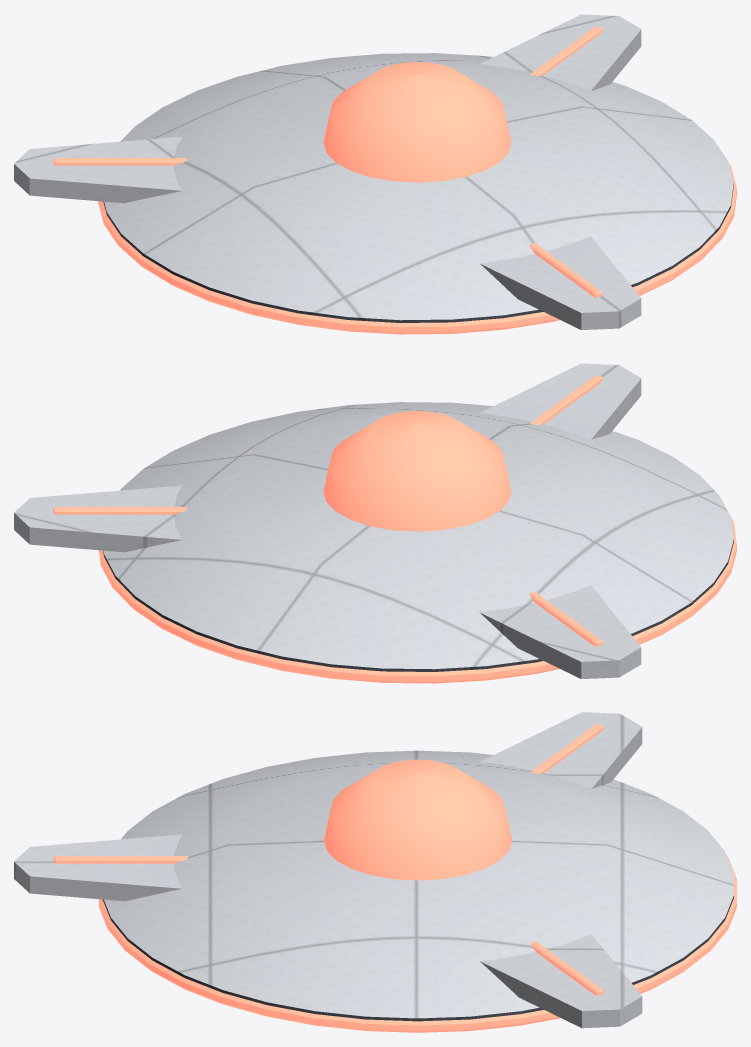
File: R4D_ExplosiveTrap.glb
3 views of the same model, one above another, from view 1: azimuth 30°, elevation 25°; view 2: azimuth 150°, elevation 25°; view 3: azimuth 270°, elevation 25° (orthographic).
Parts seen in each view (by area): view 1: R4D_ExplosiveTrap_Body, R4D_ExplosiveTrap_Lamp; view 2: R4D_ExplosiveTrap_Body, R4D_ExplosiveTrap_Lamp; view 3: R4D_ExplosiveTrap_Body, R4D_ExplosiveTrap_Lamp.
Part boxes in pixels (left/top/right/bottom): R4D_ExplosiveTrap_Body: left=14, top=14, right=736, bottom=334; R4D_ExplosiveTrap_Lamp: left=323, top=62, right=511, bottom=182; R4D_ExplosiveTrap_Body: left=14, top=363, right=736, bottom=683; R4D_ExplosiveTrap_Lamp: left=323, top=411, right=511, bottom=531; R4D_ExplosiveTrap_Body: left=14, top=712, right=736, bottom=1032; R4D_ExplosiveTrap_Lamp: left=323, top=759, right=512, bottom=880.
Size of the model in its own units: 0.4464 by 0.1 by 0.4563.
4 materials, 3 textured.
